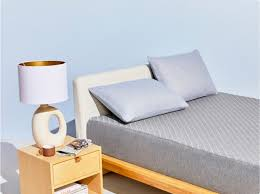bed-matress: (86, 90, 260, 194)
